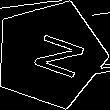N_W: (18, 27, 82, 82)
